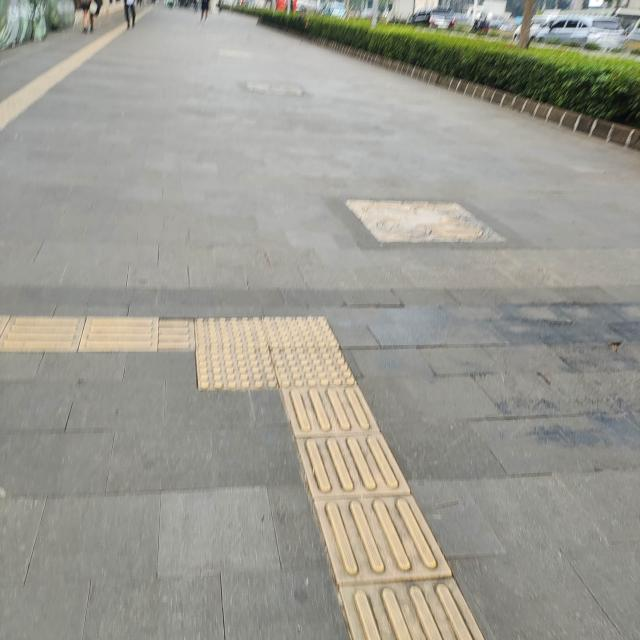kiri: (94, 258, 409, 454)
